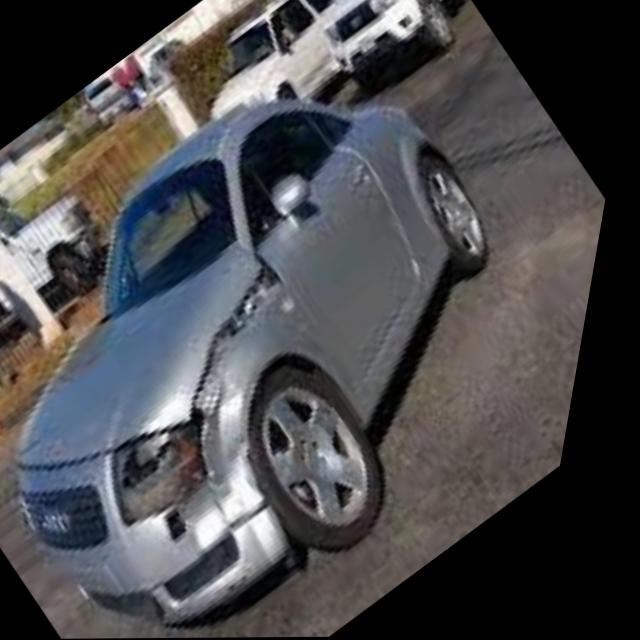dislocated part: (120, 247, 300, 553)
